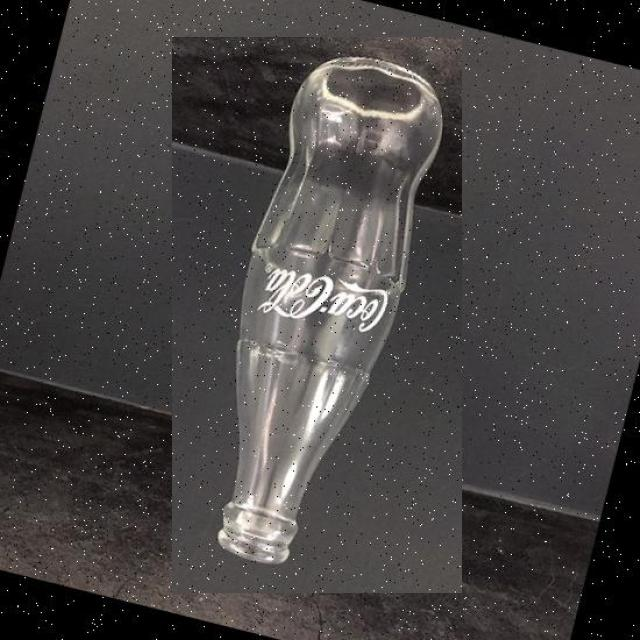coca-cola: (172, 38, 462, 594)
